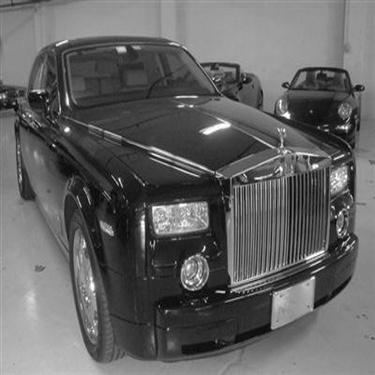car: (2, 26, 363, 365), (270, 63, 368, 146), (183, 55, 265, 117), (1, 79, 27, 111)
